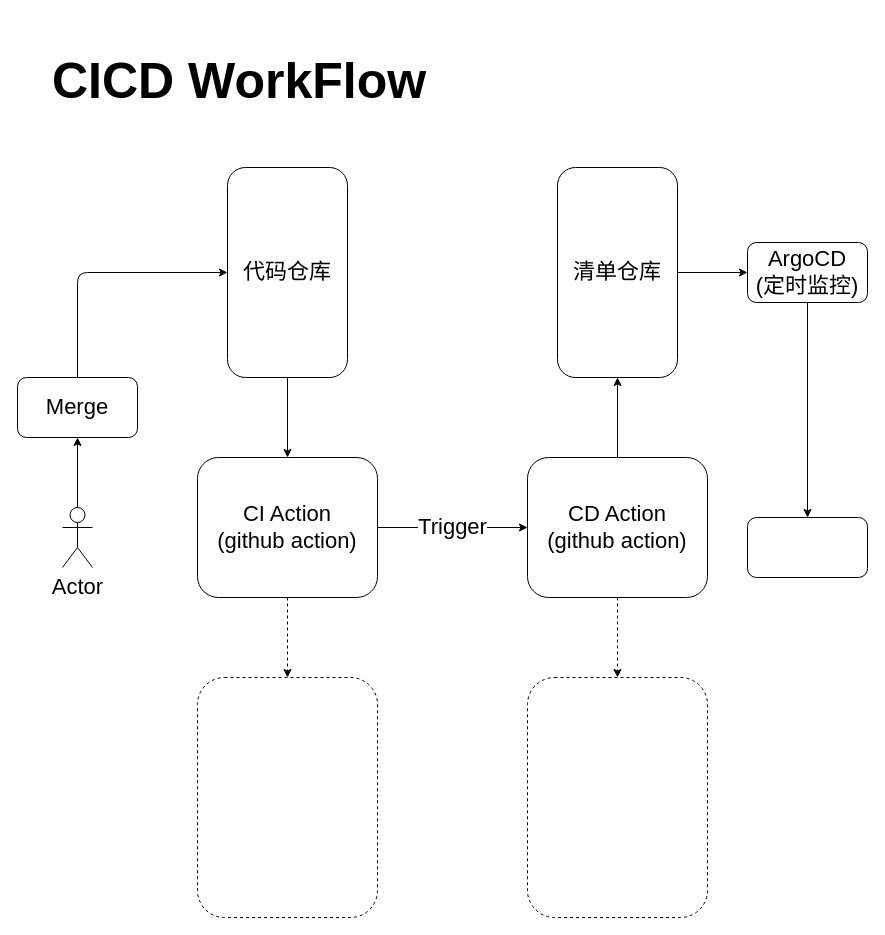
This 885x935 diagram has some shape labels left out. Each missing label, with the box of its shape:
action 内容： 1. clone 2. docker login 3. build & push 4.trigger: (196, 676, 378, 918)
action 内容： 1. set image 2. commit: (526, 676, 708, 918)
kubernetes 集群部署: (746, 516, 868, 578)
